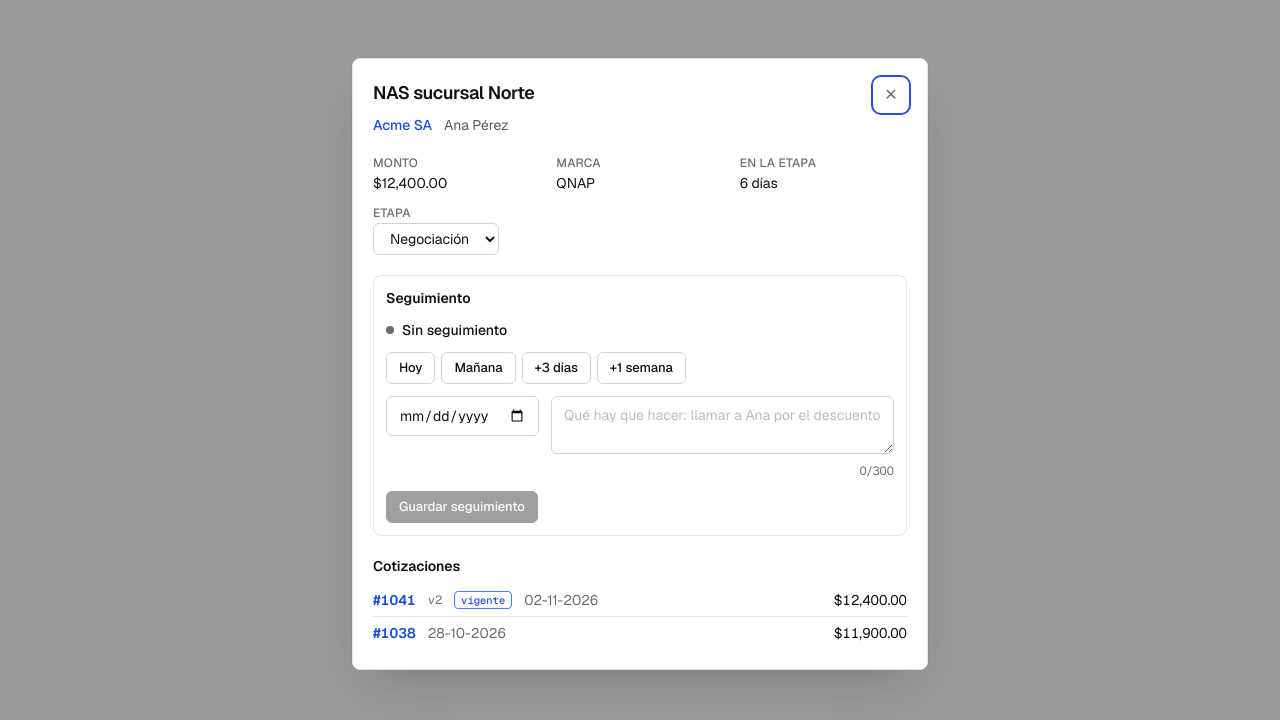
it: OportunidadPanel › seguimiento › guarda fecha y nota recortada y deja el panel abierto con el estado nuevo
Expected: the dialog "NAS sucursal Norte" is shown, top-left (352, 58), bottom-right (928, 670)
Expected: the heading "Seguimiento" is shown, top-left (386, 289), bottom-right (471, 307)
Click the button "Mañana": (479, 368) top-left (442, 352), bottom-right (516, 384)
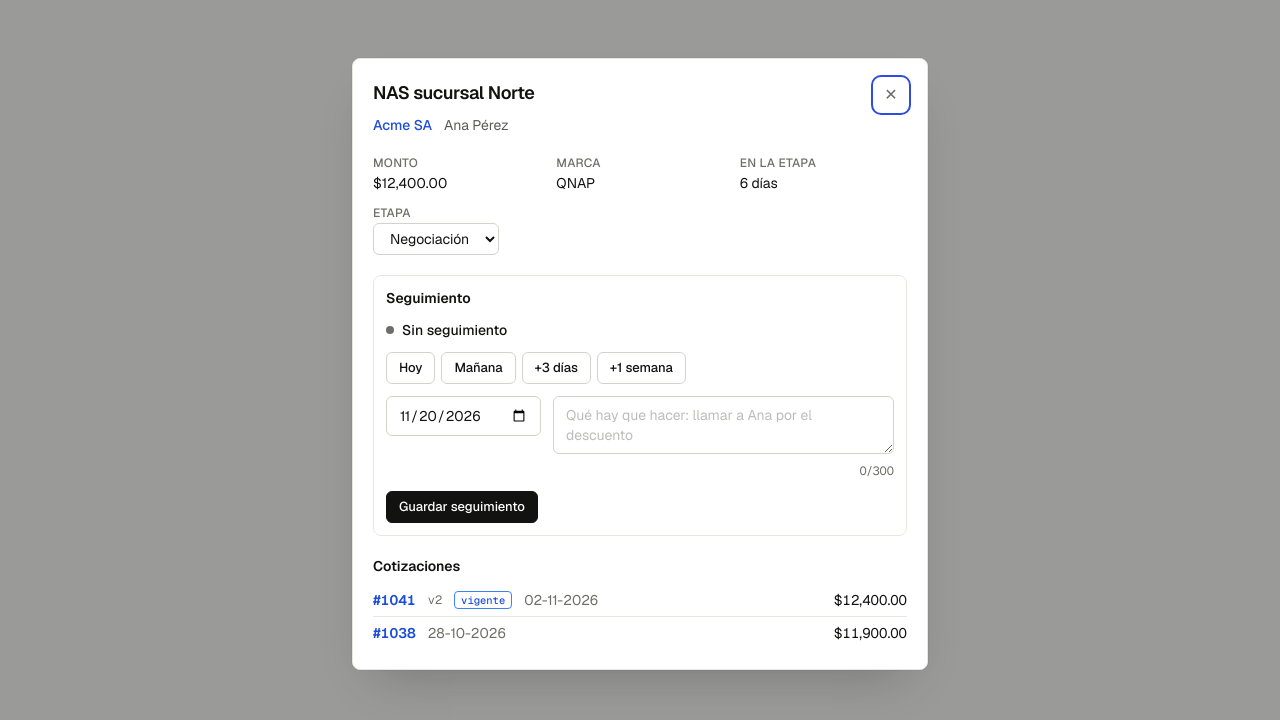
In the text box named "Nota del seguimiento": (724, 425) top-left (553, 396), bottom-right (894, 454), type "  Llamar a Ana por el descuento  "
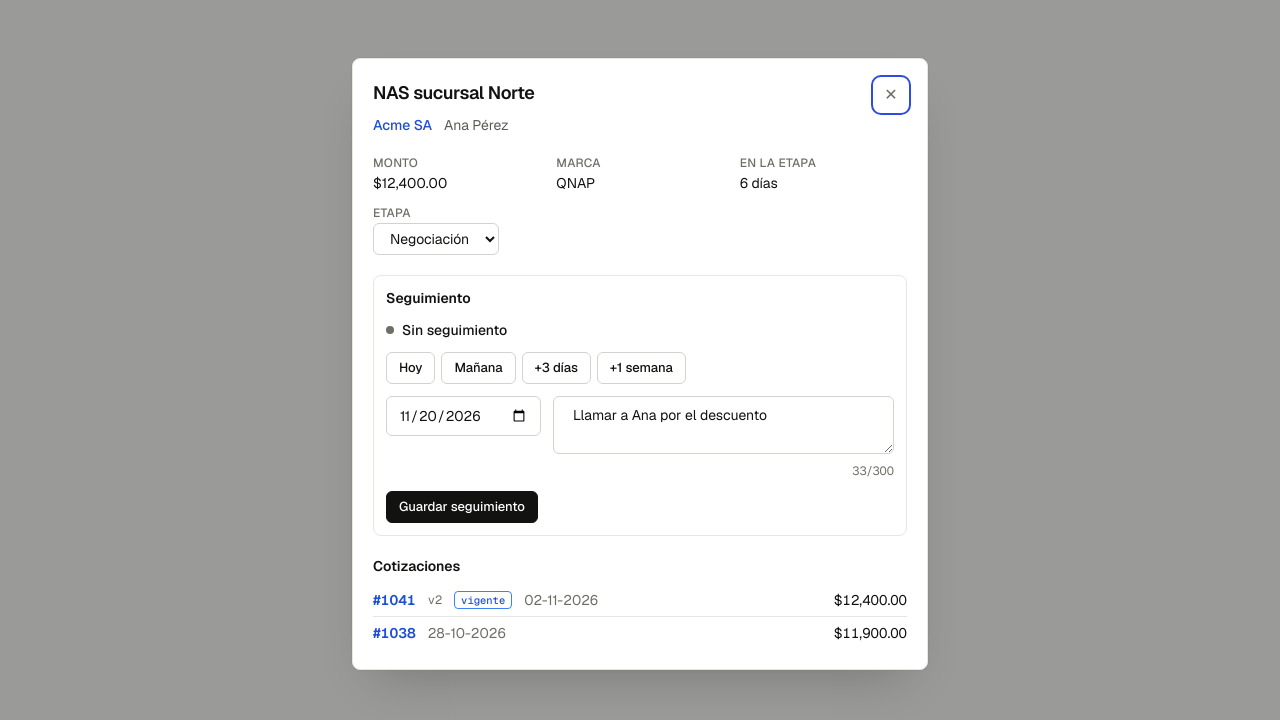
Expected: the text "33/300" is shown, top-left (852, 463), bottom-right (894, 479)
Click the button "Guardar seguimiento": (462, 507) top-left (386, 491), bottom-right (538, 523)
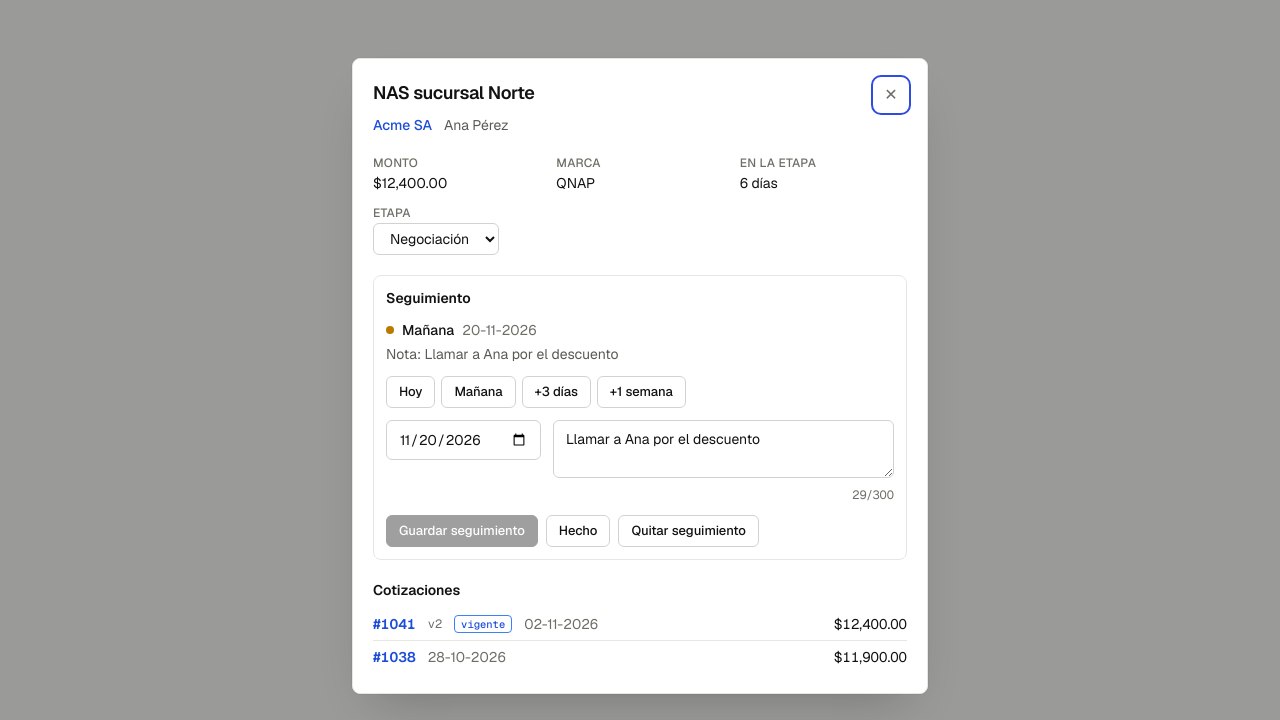
Expected: the text "Mañana" is shown, top-left (402, 320), bottom-right (454, 340)
Expected: the text "Nota: Llamar a Ana por el descuento" is shown, top-left (386, 345), bottom-right (619, 363)
Expected: the button "Quitar seguimiento" is shown, top-left (618, 515), bottom-right (759, 547)
